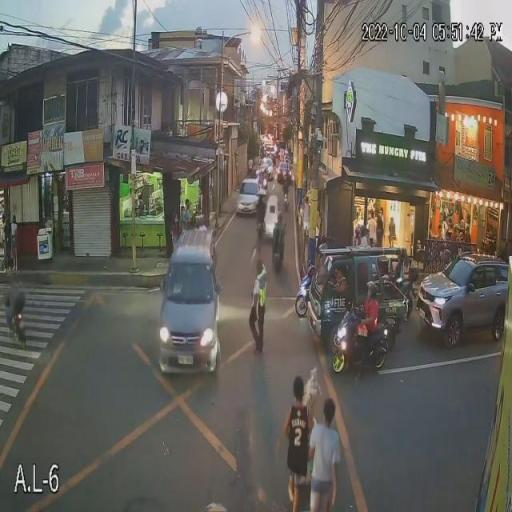helmet: (365, 282, 378, 298), (277, 211, 284, 221), (318, 244, 327, 250)
motorcycle: (331, 312, 394, 373), (4, 308, 28, 350), (296, 272, 309, 318), (272, 229, 286, 266)
rider: (356, 298, 378, 368), (5, 287, 25, 332), (274, 222, 286, 245)
